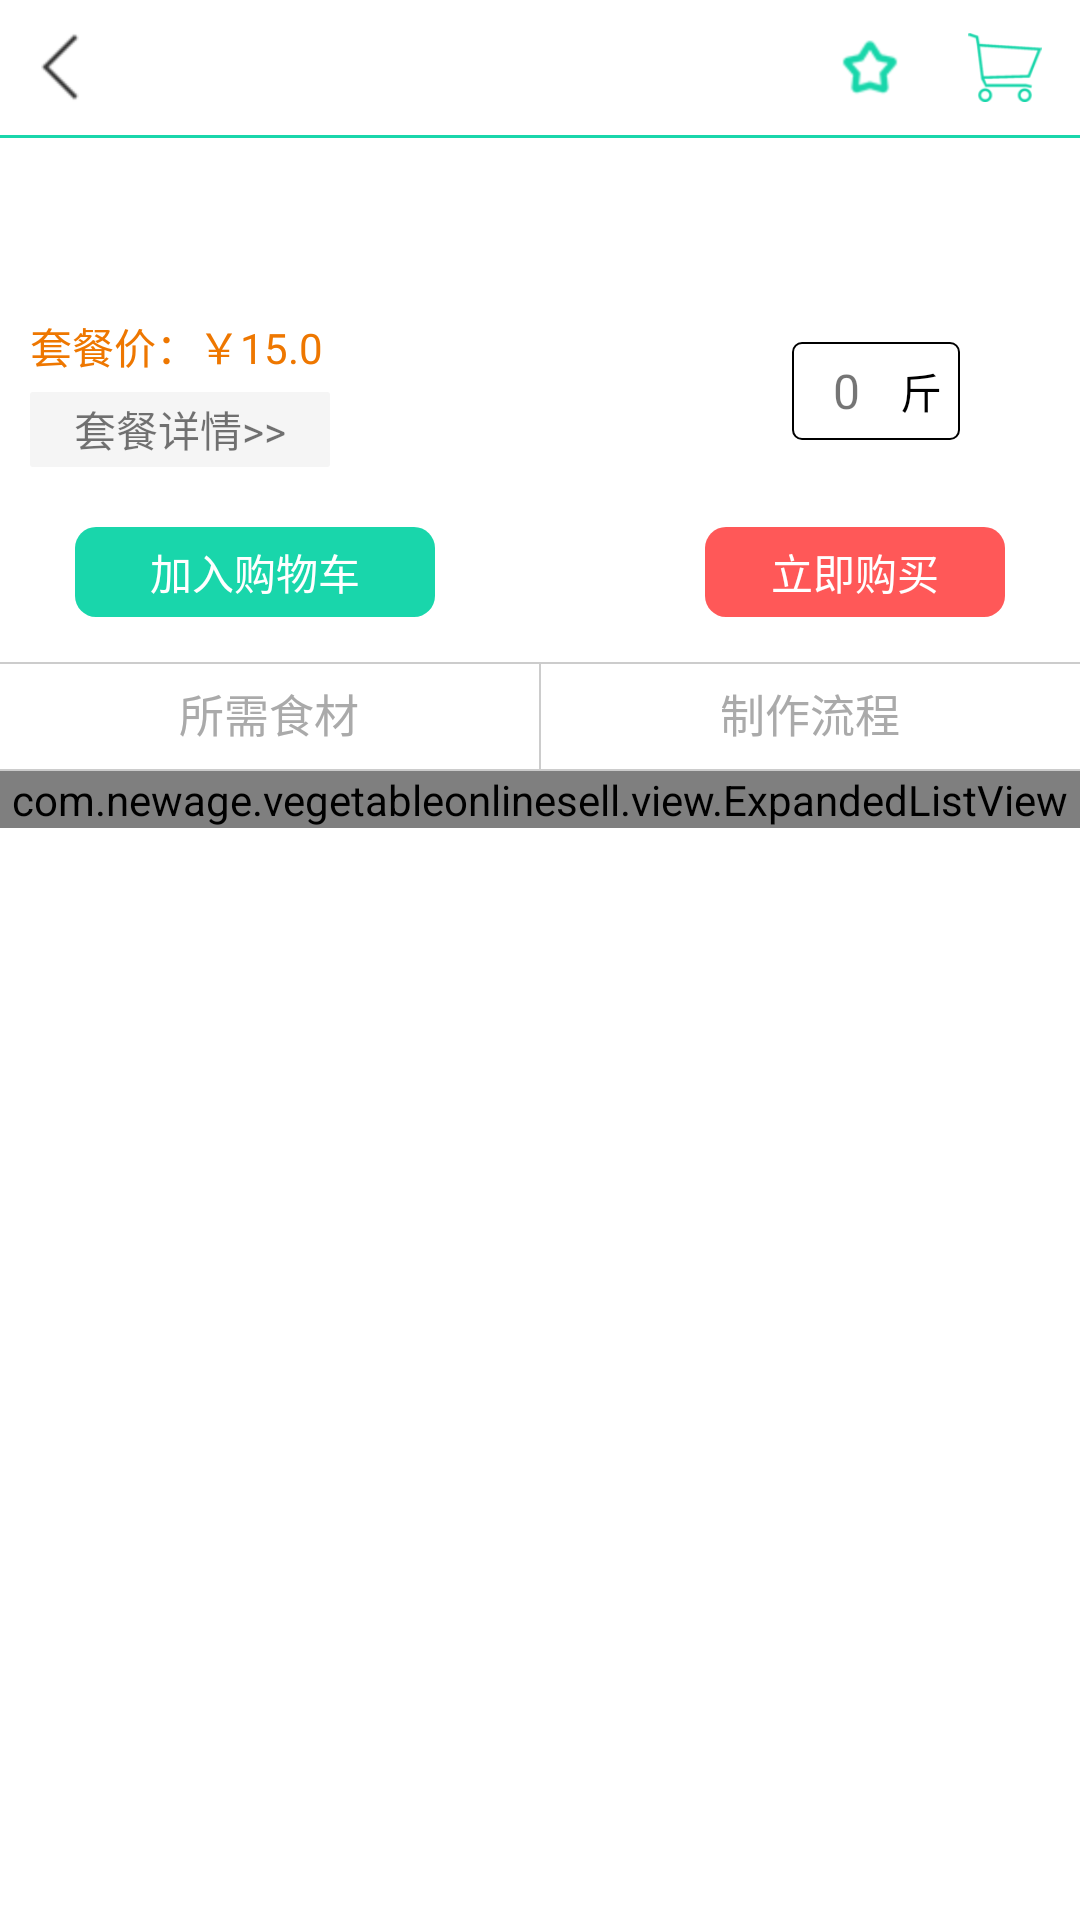

Icons on this 1080w x 1920h Android screen, each with its box as detection(x1, y1, x2, y2):
back: detection(42, 34, 78, 100)
collect: detection(842, 40, 898, 94)
shoppingcart: detection(968, 33, 1042, 102)
